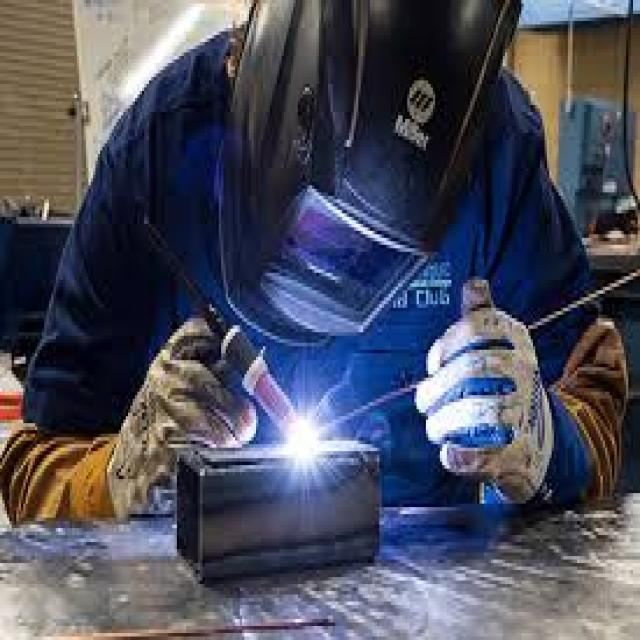welding: (286, 412, 321, 462)
